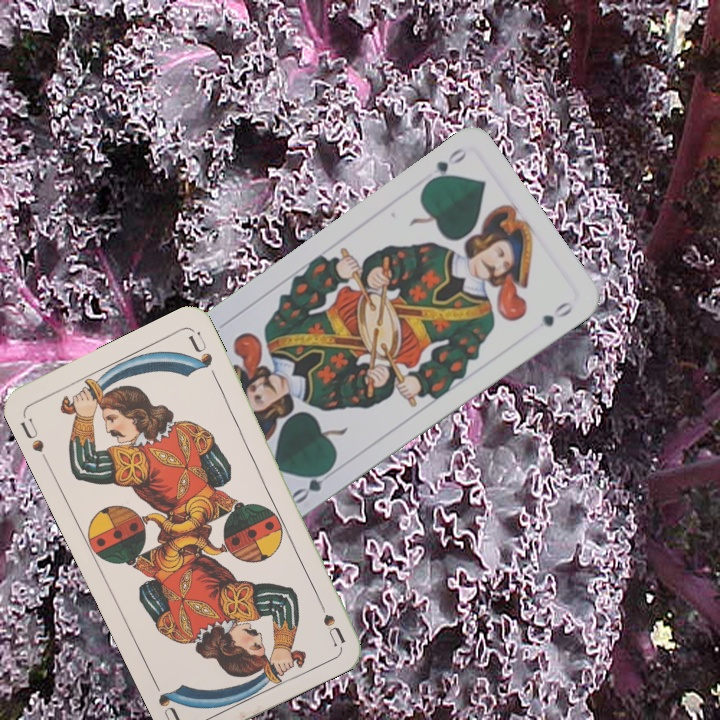GO: (287, 460, 341, 507), (421, 143, 470, 188)
SU: (312, 591, 349, 648), (16, 413, 47, 455)
